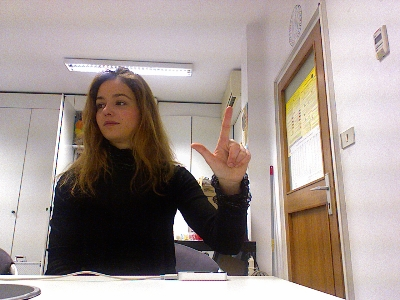枪: (188, 105, 251, 181)
